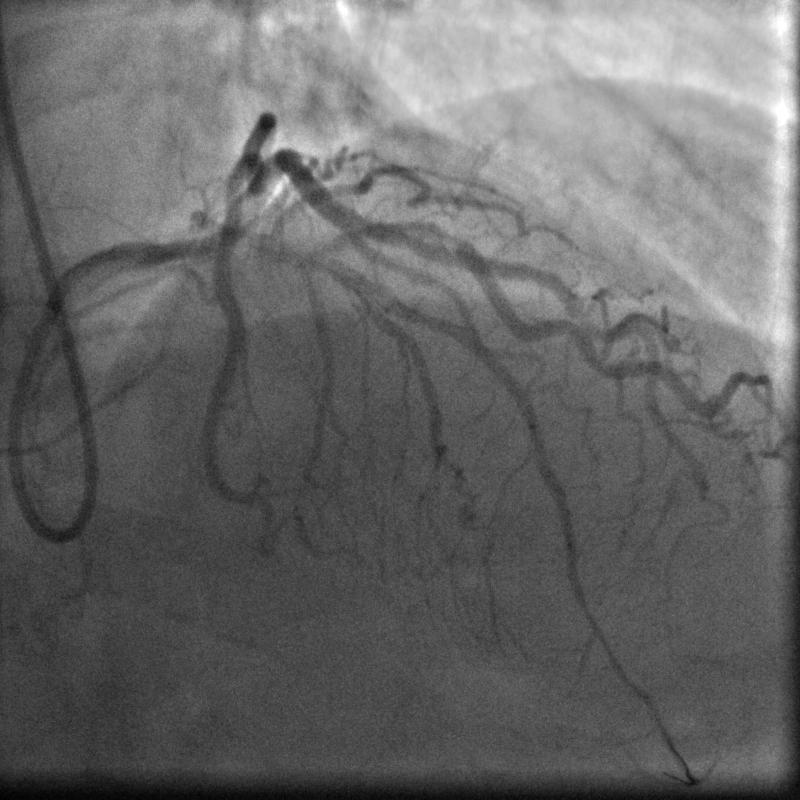Stenosis: (412, 214, 460, 256)
